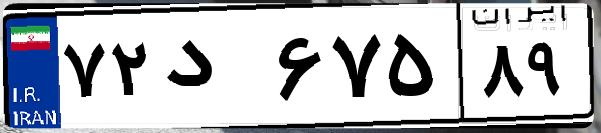2: (110, 28, 158, 98)
5: (385, 28, 445, 110)
6: (270, 28, 330, 110)
7: (330, 28, 385, 110), (57, 26, 110, 100)
8: (475, 38, 525, 113)
9: (525, 38, 570, 115)
د: (158, 20, 270, 120)
